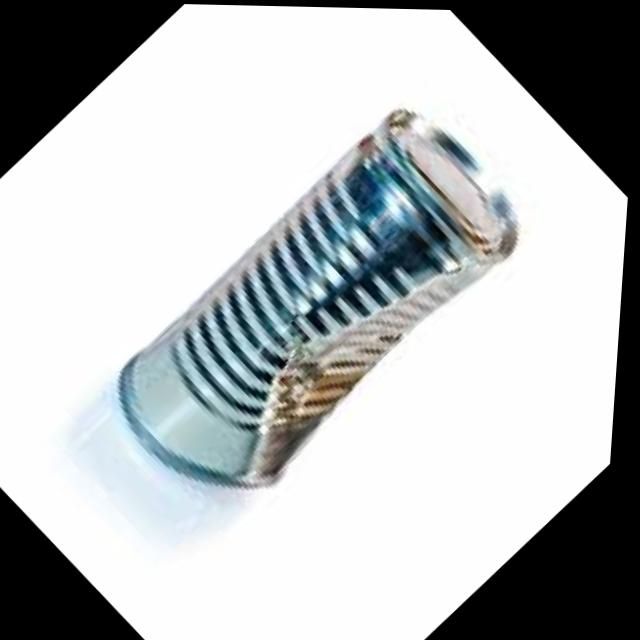metal: (86, 81, 556, 536)
